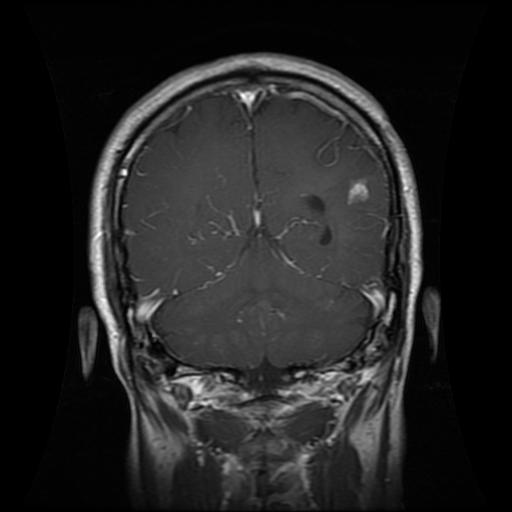Gliomia_tumour: (306, 195, 333, 246)
